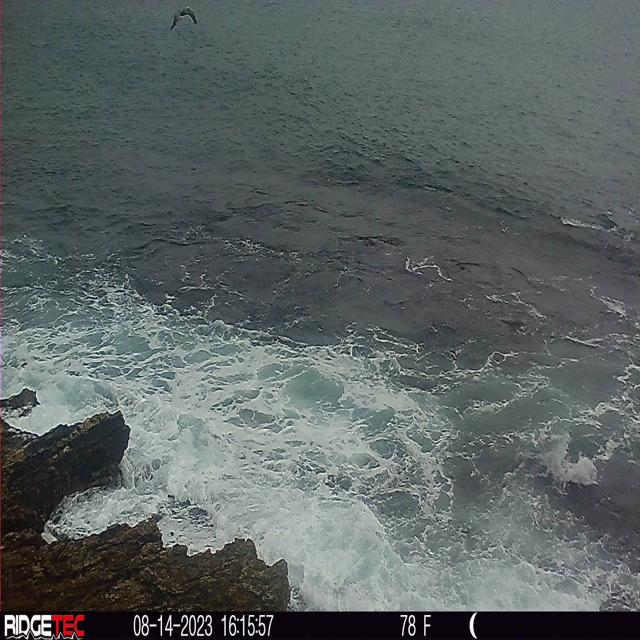bird: (168, 0, 201, 33)
